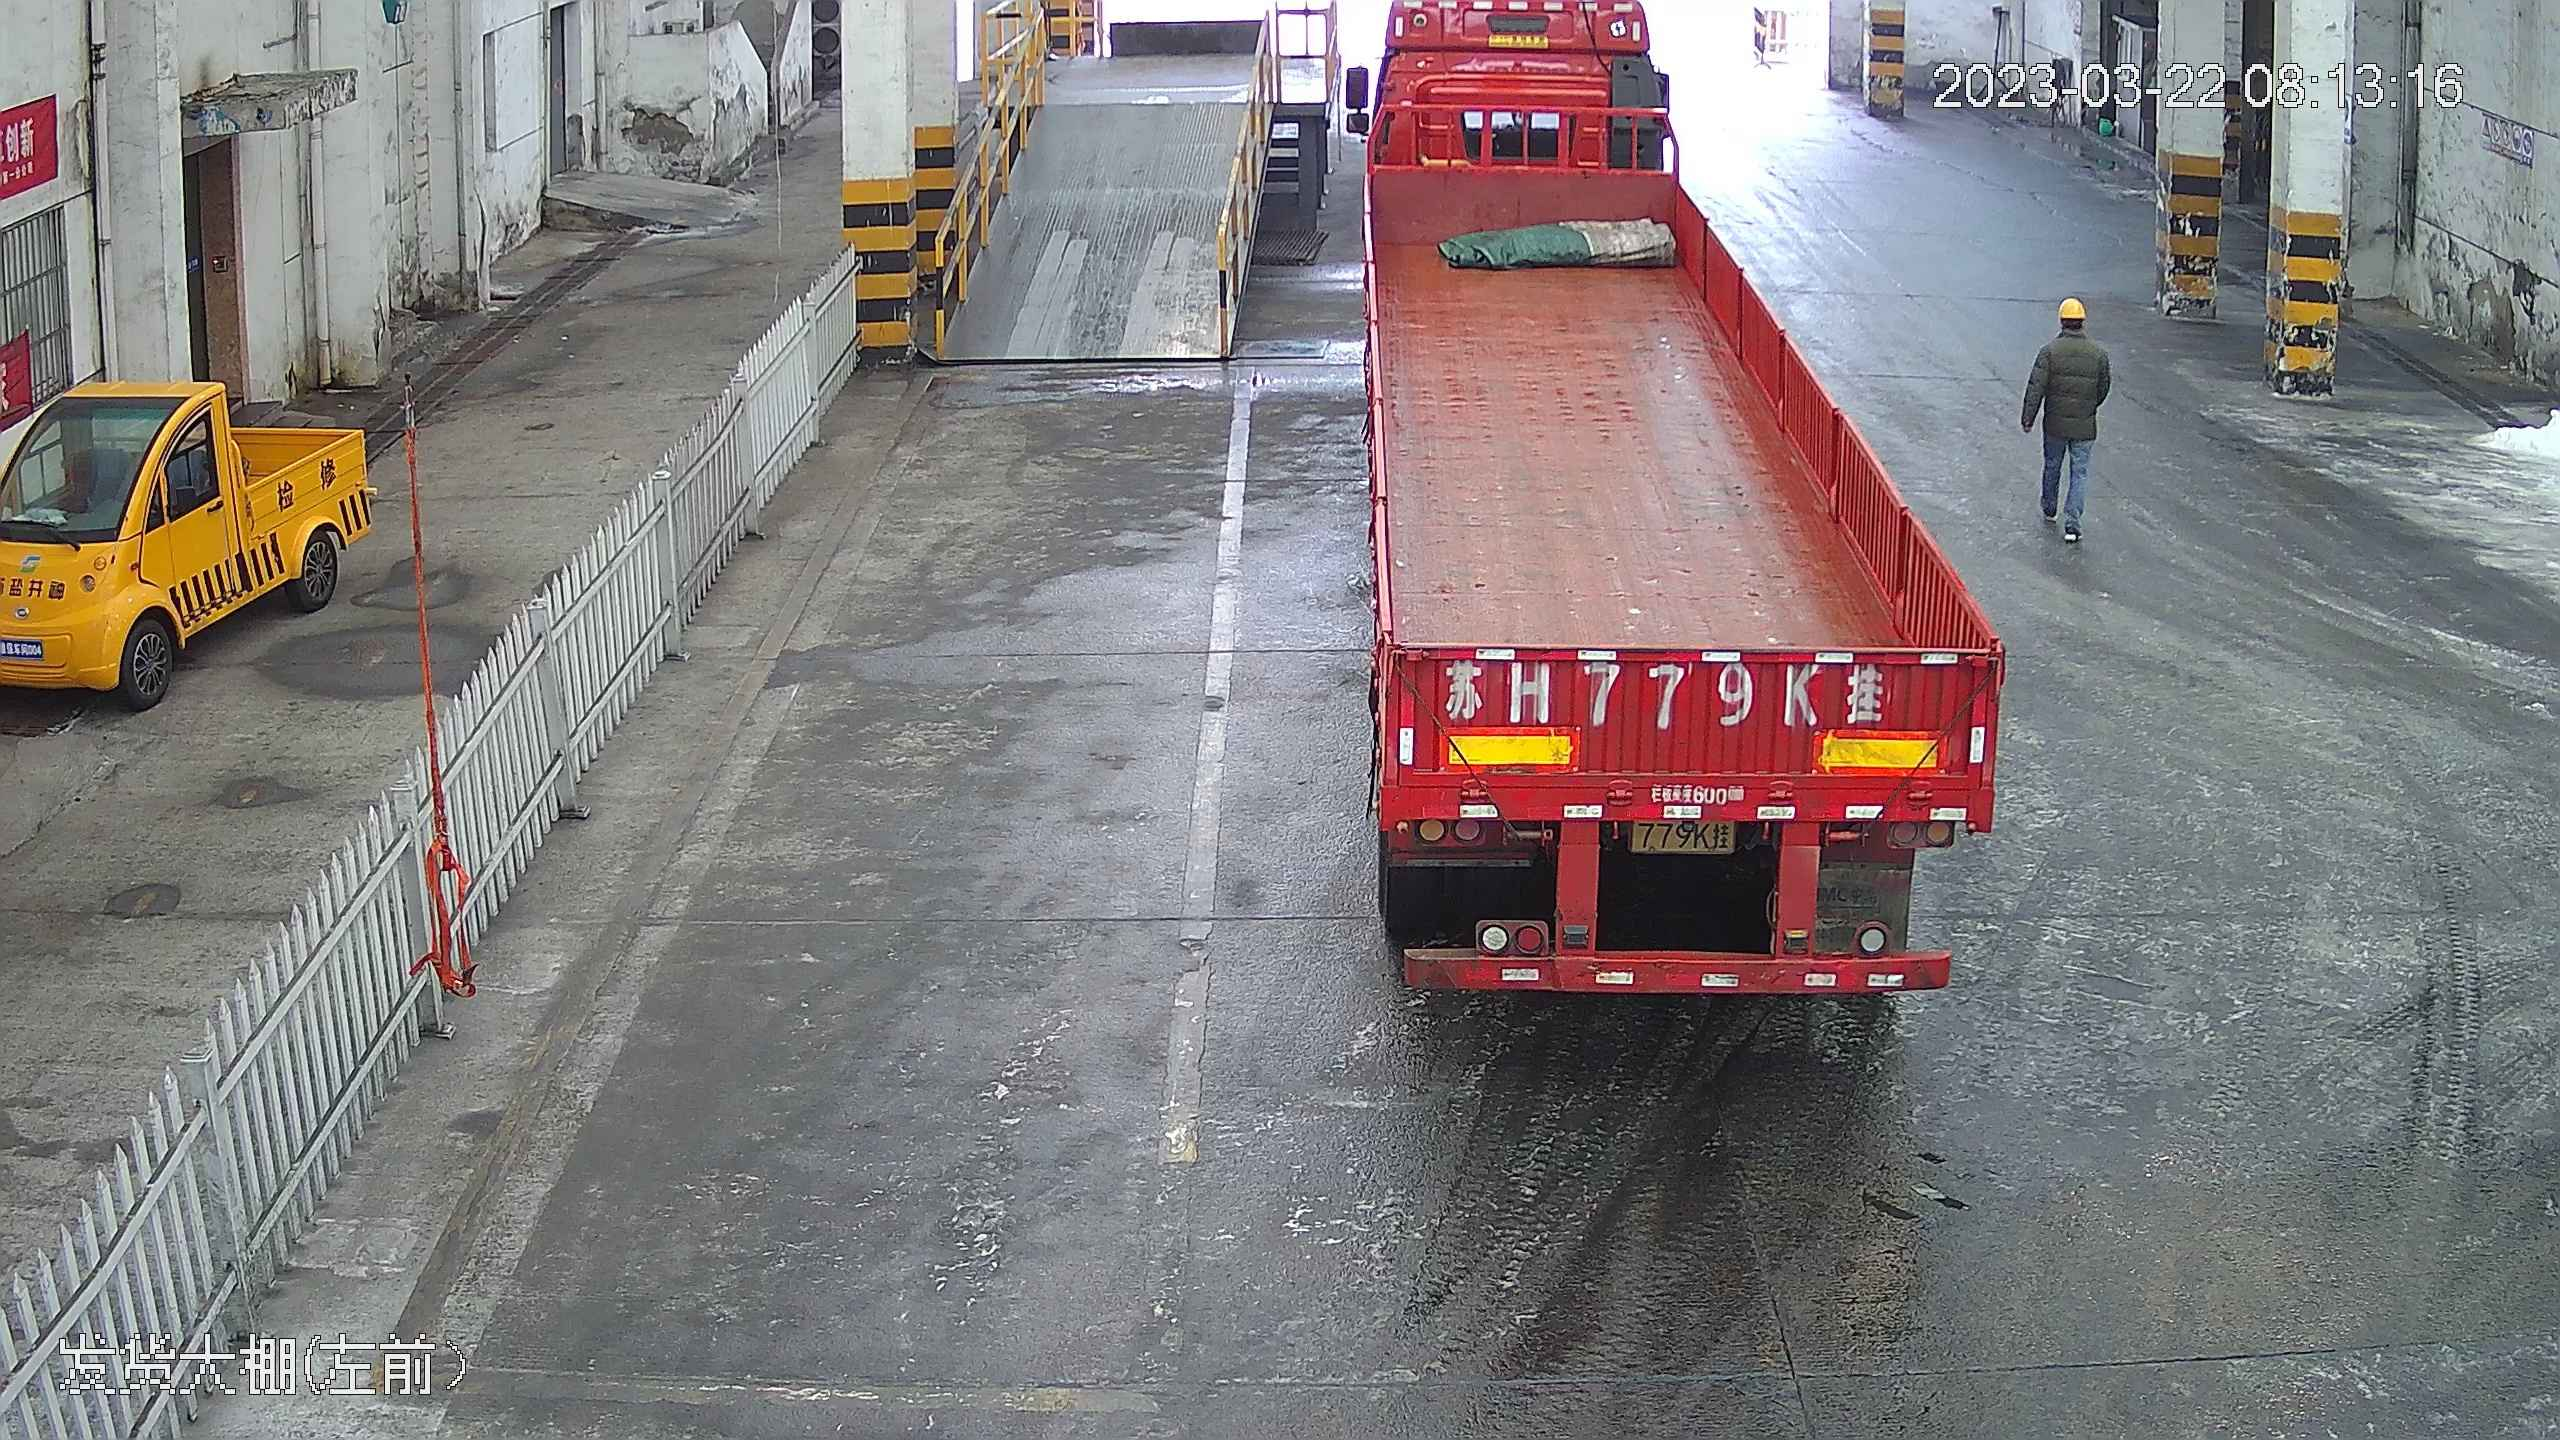head: (2036, 296, 2107, 368)
helmet: (2055, 296, 2089, 321)
people: (2019, 288, 2111, 545)
truck: (1341, 1, 2034, 1002)
